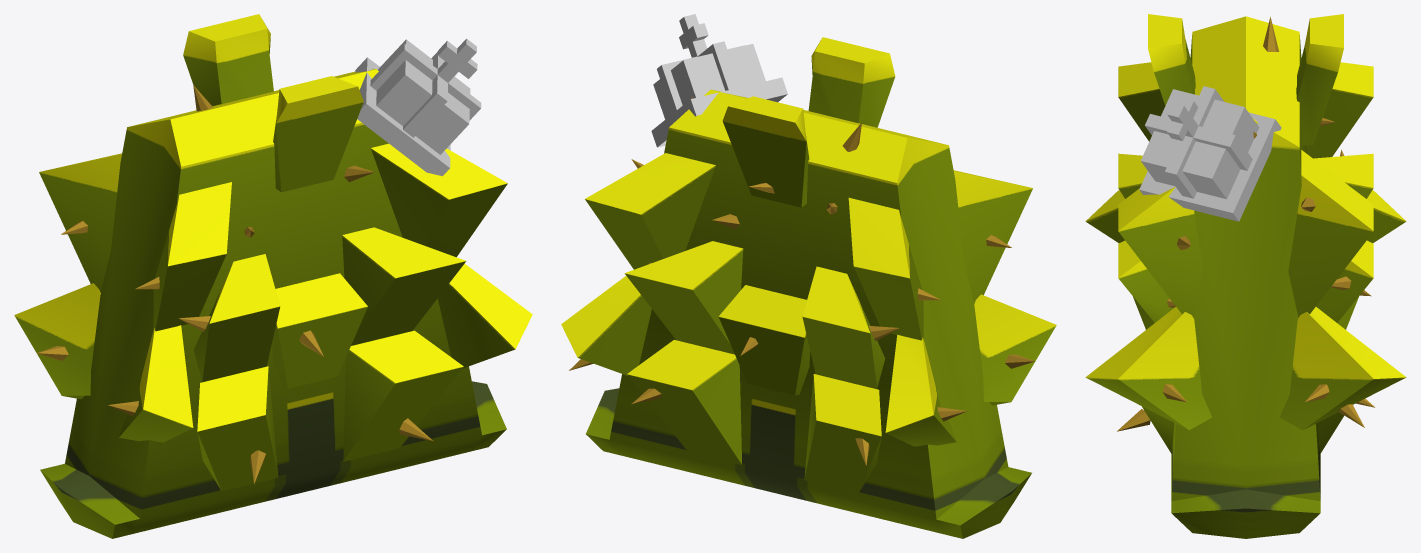
Rendered from CactusBunker.FBX.
The picture shows the model from 3 angles, left to right: view 1: azimuth 30°, elevation 25°; view 2: azimuth 150°, elevation 25°; view 3: azimuth 270°, elevation 25°; orthographic projection. The views are drawn at different scales.
Visible parts, largest first — view 1: Object001; view 2: Object001; view 3: Object001.
Boxes of the visible parts, box(x1,y1,x2,y2) form: Object001: box(14, 14, 532, 538); Object001: box(561, 14, 1056, 538); Object001: box(1085, 14, 1406, 538).
Bounding box in the file's own units: 3.43 × 2.25 × 3.21.
